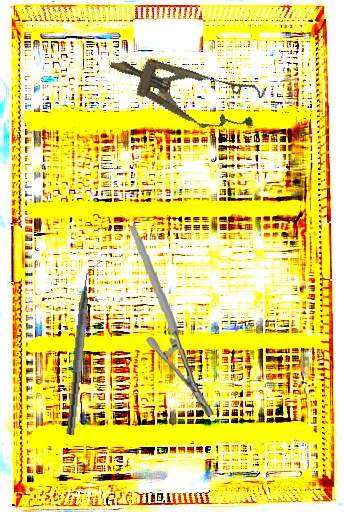Chopper: (65, 260, 103, 437)
Needle Holder: (128, 222, 216, 420)
Speculum: (100, 35, 268, 144)
